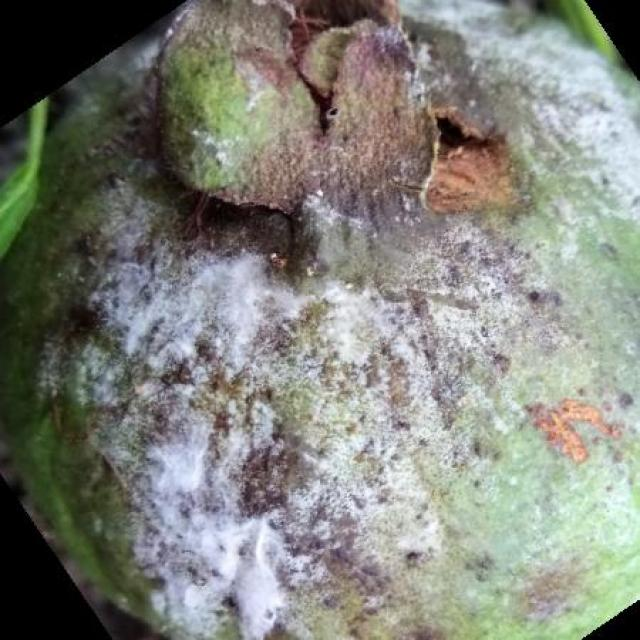Phytopthora: (0, 0, 640, 640)
